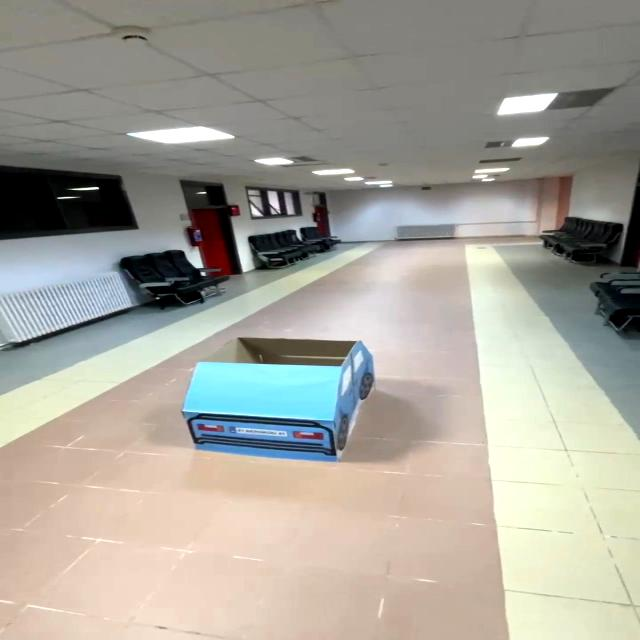blue_car: (139, 324, 418, 480)
